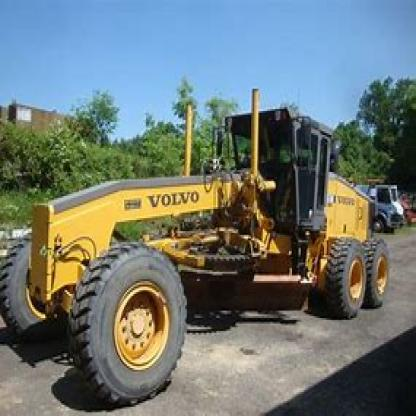bull_dozer/loader/grader: (3, 74, 397, 388)
